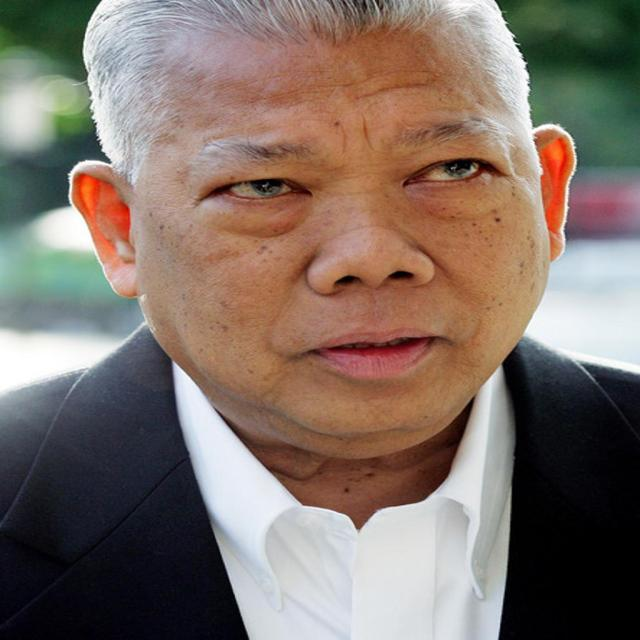Face: (152, 18, 549, 452)
